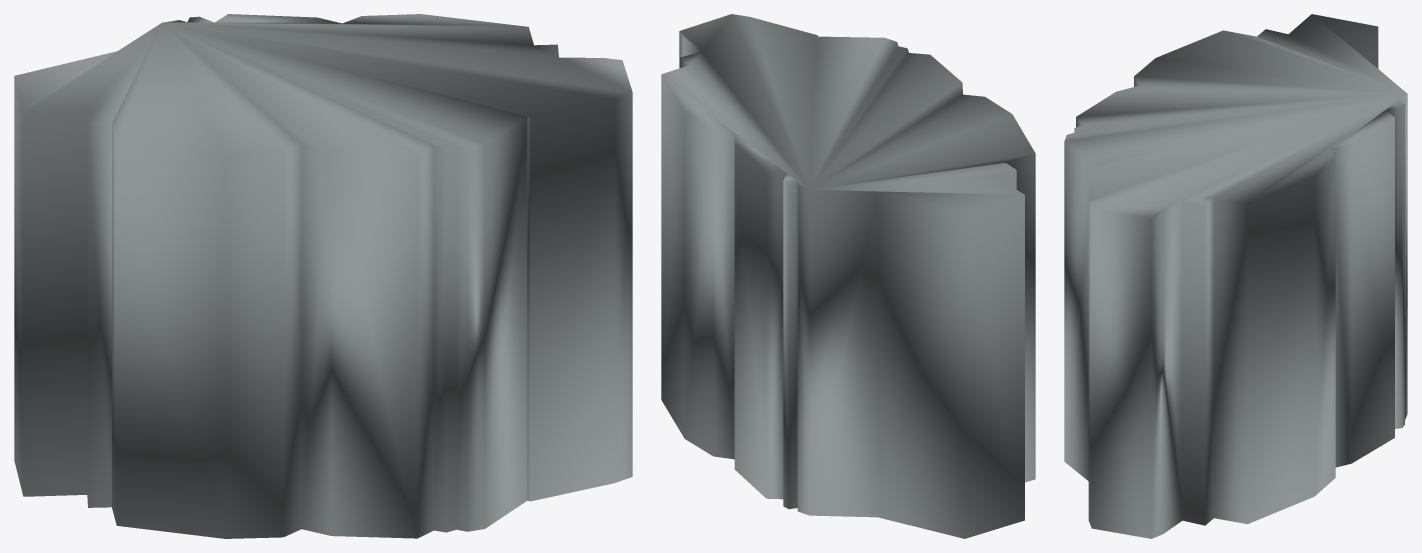
File: ColliderRock.fbx
3 renders of one model, left to right at view 1: azimuth 30°, elevation 25°; view 2: azimuth 150°, elevation 25°; view 3: azimuth 270°, elevation 25°, orthographic. The views are drawn at different scales.
Visible parts, largest first — view 1: Rock_6.001; view 2: Rock_6.001; view 3: Rock_6.001.
Part boxes in pixels (x1,y1,x2,y2): Rock_6.001: [14, 14, 632, 538]; Rock_6.001: [661, 14, 1035, 538]; Rock_6.001: [1064, 14, 1407, 538].
Size of the model in its own units: 1069 by 780 by 757.
